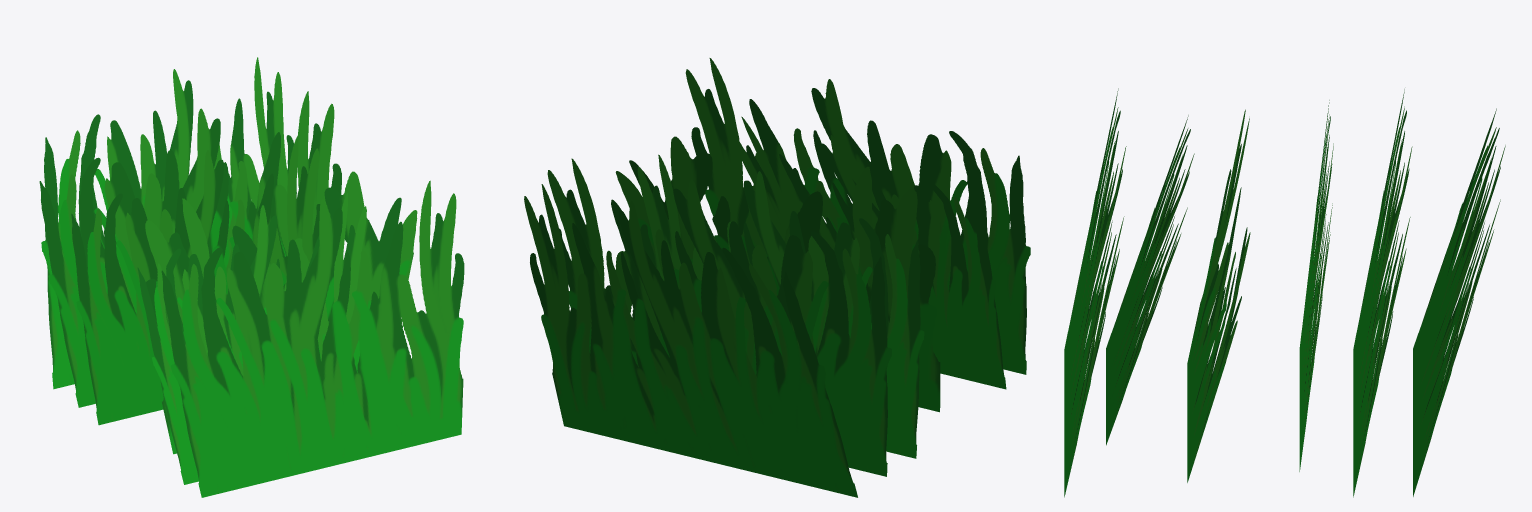
Rendered from bushNoSkeleton.glb.
The picture shows the model from 3 angles, left to right: view 1: azimuth 30°, elevation 25°; view 2: azimuth 150°, elevation 25°; view 3: azimuth 270°, elevation 25°; orthographic projection. The views are drawn at different scales.
Parts seen in each view (by area): view 1: bush.002; view 2: bush.002; view 3: bush.002.
Part boxes in pixels (x1,y1,x2,y2): bush.002: (39, 57, 464, 497); bush.002: (524, 58, 1030, 497); bush.002: (1064, 88, 1505, 497).
Bounding box in the file's own units: 1.36 × 1.02 × 1.29.
1 material, 1 textured.
